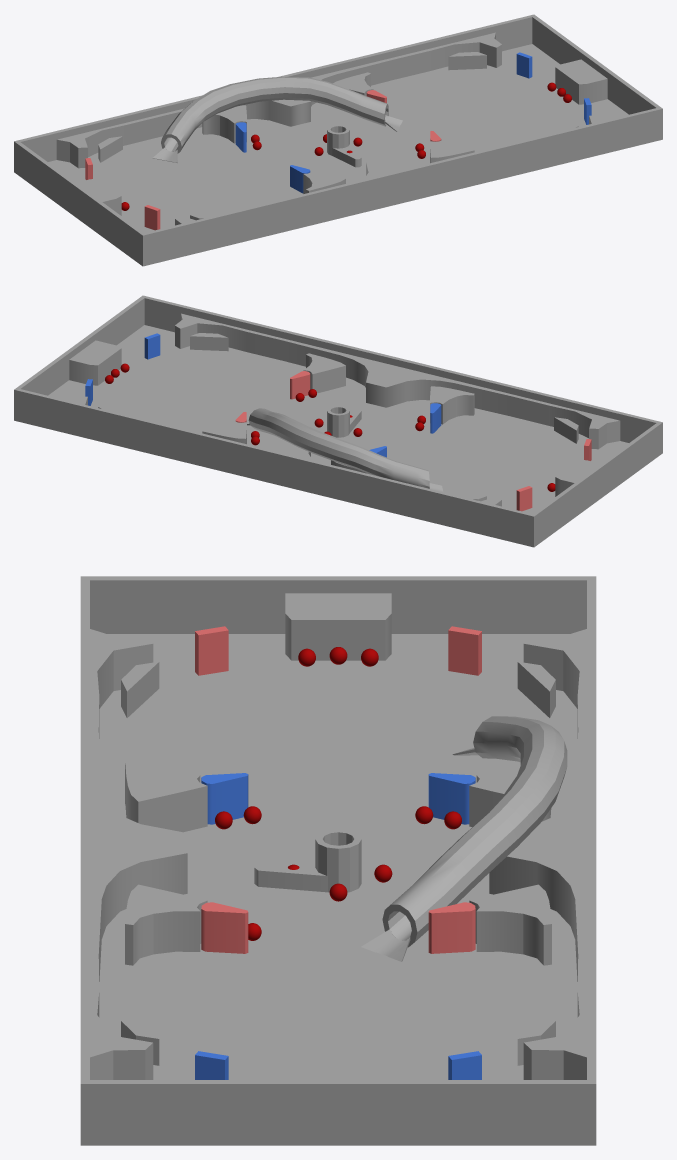
Rendered from playingfield_kgunn.fbx.
The picture shows the model from 3 angles, top to bottom: view 1: azimuth 30°, elevation 25°; view 2: azimuth 150°, elevation 25°; view 3: azimuth 270°, elevation 25°; orthographic projection. The views are drawn at different scales.
Visible parts, largest first — view 1: floor_GEO, wall02_GEO, sideBox01_GEO, tunnel01_GEO, wall01_GEO, wall03_GEO, wall04_GEO, goalDivider01_GEO1, box01_GEO, sideBox02_GEO, goalDivider01_GEO, box02_GEO (+8 smaller); view 2: floor_GEO, wall01_GEO, sideBox02_GEO, wall02_GEO, tunnel01_GEO, wall03_GEO, wall04_GEO, goalDivider01_GEO1, box04_GEO, box02_GEO, goalDivider01_GEO, sideBox01_GEO (+7 smaller); view 3: floor_GEO, wall04_GEO, wall03_GEO, sideBox02_GEO, sideBox01_GEO, tunnel01_GEO, goalDivider01_GEO, wall02_GEO, wall01_GEO, box04_GEO, box03_GEO, box02_GEO (+17 smaller).
Boxes of the visible parts, left/top/right/bottom form: floor_GEO: left=14, top=44, right=662, bottom=266; wall02_GEO: left=140, top=107, right=662, bottom=262; sideBox01_GEO: left=56, top=32, right=501, bottom=168; tunnel01_GEO: left=161, top=76, right=388, bottom=153; wall01_GEO: left=14, top=14, right=535, bottom=169; wall03_GEO: left=16, top=142, right=143, bottom=260; wall04_GEO: left=532, top=16, right=659, bottom=114; goalDivider01_GEO1: left=555, top=59, right=607, bottom=104; box01_GEO: left=202, top=105, right=246, bottom=143; sideBox02_GEO: left=175, top=115, right=605, bottom=225; goalDivider01_GEO: left=76, top=178, right=121, bottom=215; box02_GEO: left=303, top=170, right=345, bottom=193; floor_GEO: left=14, top=325, right=662, bottom=547; wall01_GEO: left=14, top=388, right=536, bottom=543; sideBox02_GEO: left=175, top=313, right=620, bottom=449; wall02_GEO: left=141, top=295, right=662, bottom=450; tunnel01_GEO: left=248, top=408, right=429, bottom=488; wall03_GEO: left=533, top=423, right=660, bottom=541; wall04_GEO: left=17, top=297, right=144, bottom=395; goalDivider01_GEO1: left=69, top=340, right=121, bottom=385; box04_GEO: left=303, top=353, right=345, bottom=393; box02_GEO: left=430, top=386, right=474, bottom=424; goalDivider01_GEO: left=555, top=459, right=600, bottom=496; sideBox01_GEO: left=71, top=396, right=501, bottom=506; floor_GEO: left=80, top=634, right=596, bottom=1145; wall04_GEO: left=90, top=1080, right=586, bottom=1137; wall03_GEO: left=90, top=576, right=586, bottom=633; sideBox02_GEO: left=90, top=629, right=187, bottom=1079; sideBox01_GEO: left=489, top=629, right=586, bottom=1079; tunnel01_GEO: left=382, top=716, right=567, bottom=947; goalDivider01_GEO: left=285, top=593, right=391, bottom=660; wall02_GEO: left=80, top=576, right=89, bottom=1137; wall01_GEO: left=587, top=576, right=596, bottom=1137; box04_GEO: left=125, top=884, right=207, bottom=965; box03_GEO: left=469, top=884, right=551, bottom=965; box02_GEO: left=125, top=761, right=207, bottom=832.
Bounding box in the file's own units: 2680 × 344 × 1150.
